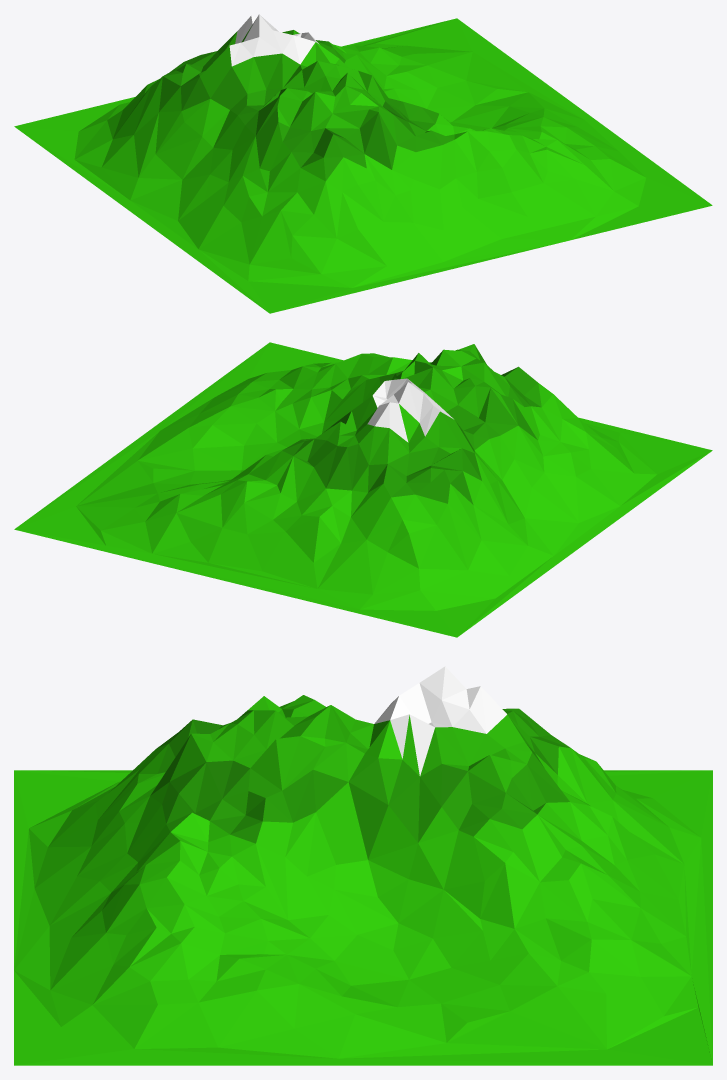
Rendered from Landscape_1.fbx.
3 views of the same model, one above another, from view 1: azimuth 30°, elevation 25°; view 2: azimuth 150°, elevation 25°; view 3: azimuth 270°, elevation 25° (orthographic). The views are drawn at different scales.
Visible parts, largest first — view 1: Landscape_1; view 2: Landscape_1; view 3: Landscape_1.
Part boxes in pixels (x1,y1,x2,y2): Landscape_1: [14, 14, 712, 313]; Landscape_1: [14, 342, 712, 637]; Landscape_1: [14, 666, 712, 1065].
Bounding box in the file's own units: 12000 × 3831 × 12000.
